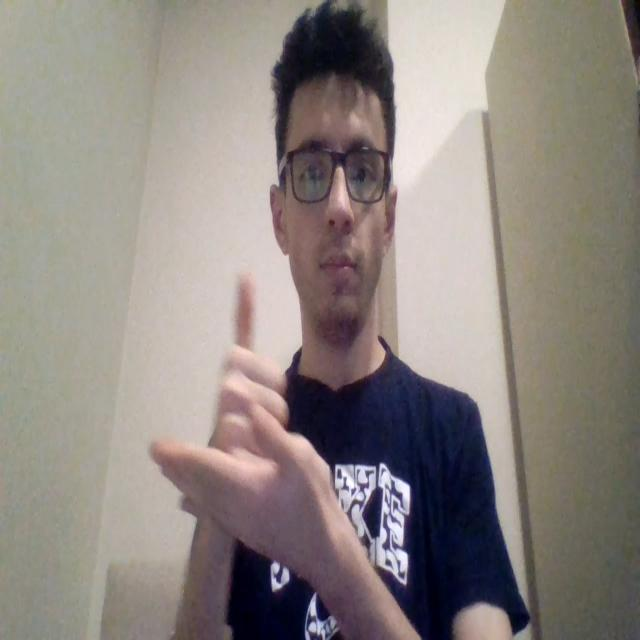help: (149, 276, 335, 561)
